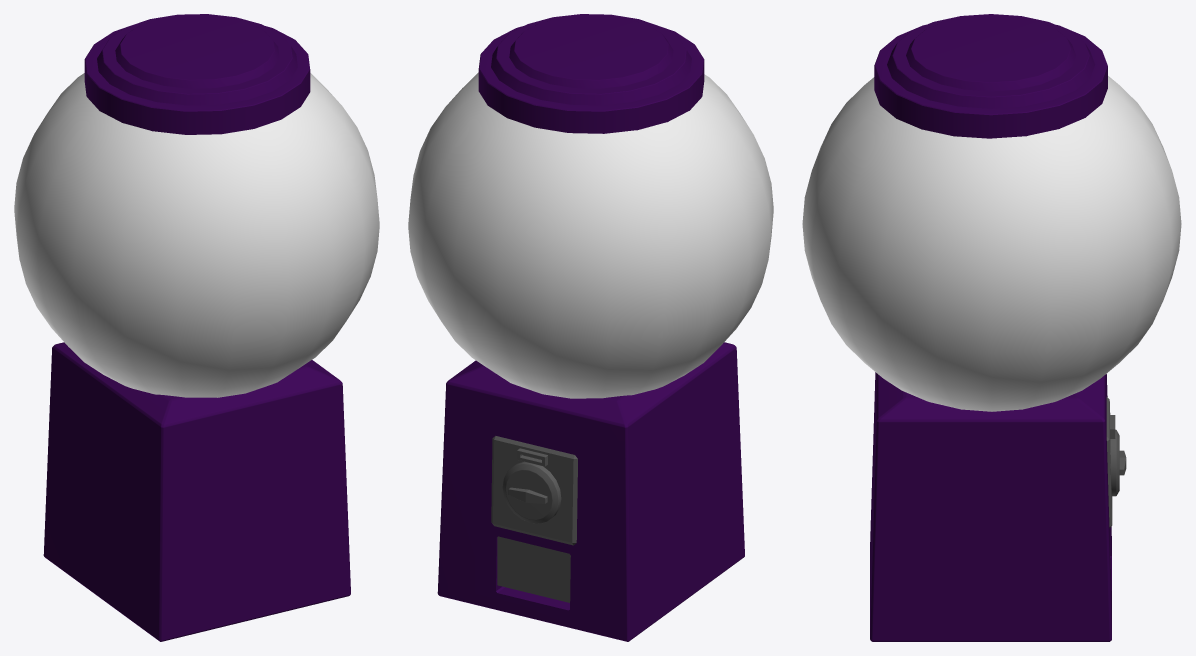
File: gacha_hontai.fbx
The picture shows the model from 3 angles, left to right: view 1: azimuth 30°, elevation 25°; view 2: azimuth 150°, elevation 25°; view 3: azimuth 270°, elevation 25°; orthographic projection. The views are drawn at different scales.
Visible parts, largest first — view 1: polySurface1, polySurface2, pCylinder1; view 2: polySurface1, polySurface2, pCylinder1, pCube2, pCube5, pCylinder2; view 3: polySurface1, polySurface2, pCylinder1, pCylinder2.
Boxes of the visible parts, box(x1,y1,x2,y2) form: polySurface1: box(14, 73, 379, 397); polySurface2: box(43, 342, 350, 641); pCylinder1: box(84, 14, 310, 134); polySurface1: box(408, 72, 773, 398); polySurface2: box(437, 342, 744, 641); pCylinder1: box(478, 14, 704, 133); pCube2: box(491, 436, 577, 545); pCube5: box(497, 536, 570, 602); pCylinder2: box(502, 461, 561, 523); polySurface1: box(802, 76, 1181, 411); polySurface2: box(870, 372, 1111, 641); pCylinder1: box(874, 14, 1107, 138); pCylinder2: box(1110, 429, 1119, 496).
Bounding box in the file's own units: 14.49 × 23.02 × 14.49.
